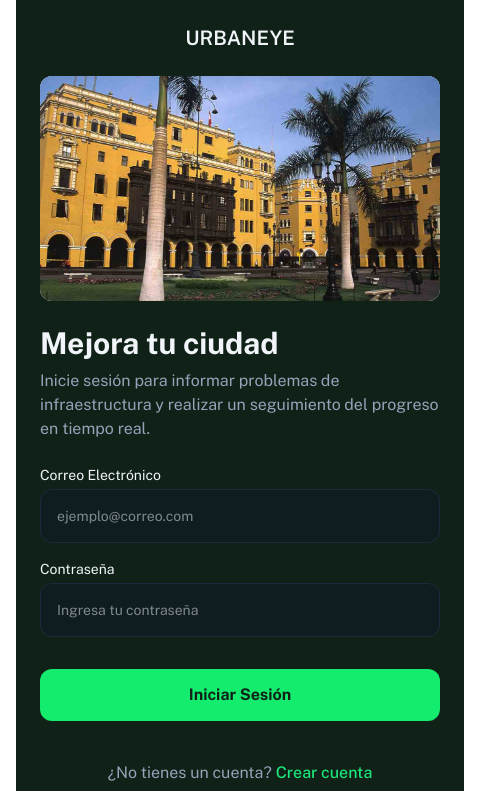
LoginPage › muestra en la UI que debes verificar tu correo antes de iniciar sesión
Expected: the heading "Mejora tu ciudad" is shown, [40,325,279,361]
Step 1. Type "pendiente@urbaneye.app" into the field labelled "Correo Electrónico" → point(240, 516), box [40,489,440,543]
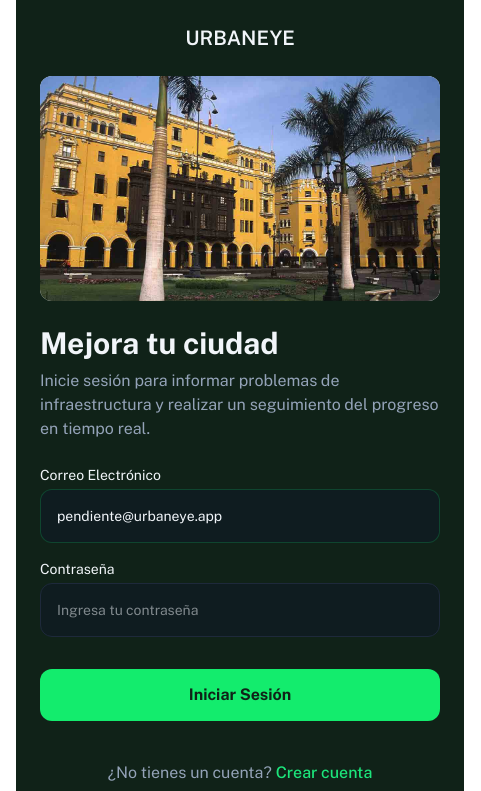
Step 2. Type "secreto123" into the password field labelled "Contraseña" → point(240, 610), box [40,583,440,637]
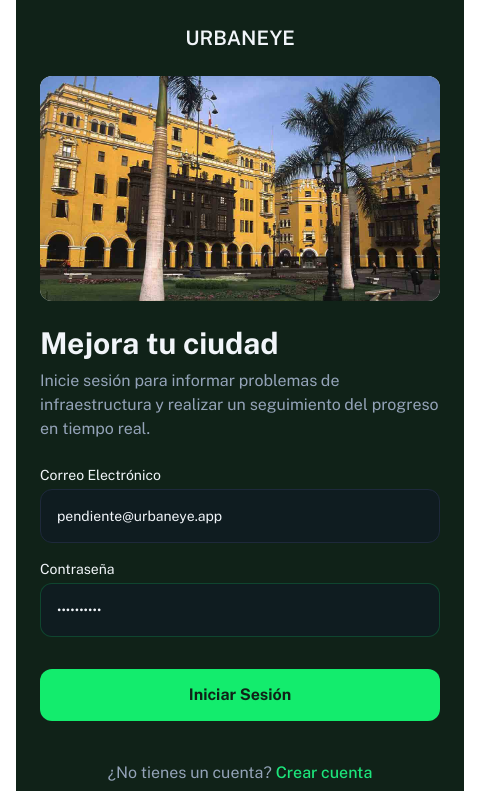
Step 3. Click the button "Iniciar Sesión" → point(240, 695), box [40,669,440,721]
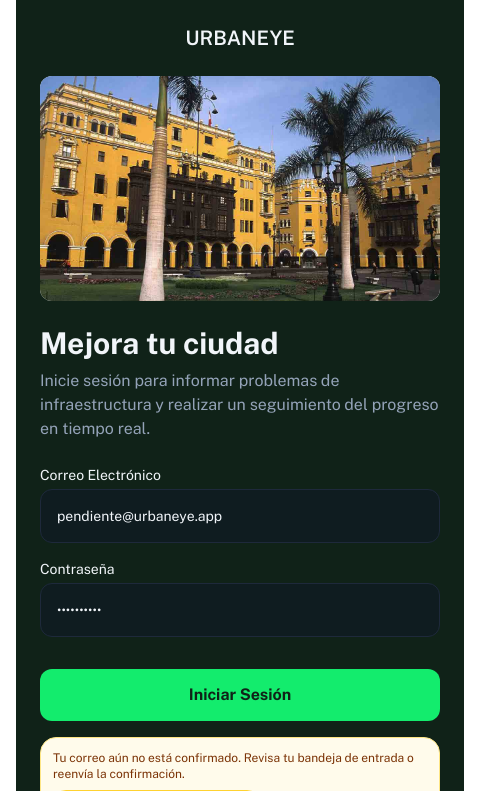
Expected: the text "Tu correo aún no está confirmado. Revisa tu bandeja de entrada o reenvía la confirmación." is shown, [53,751,414,781]
